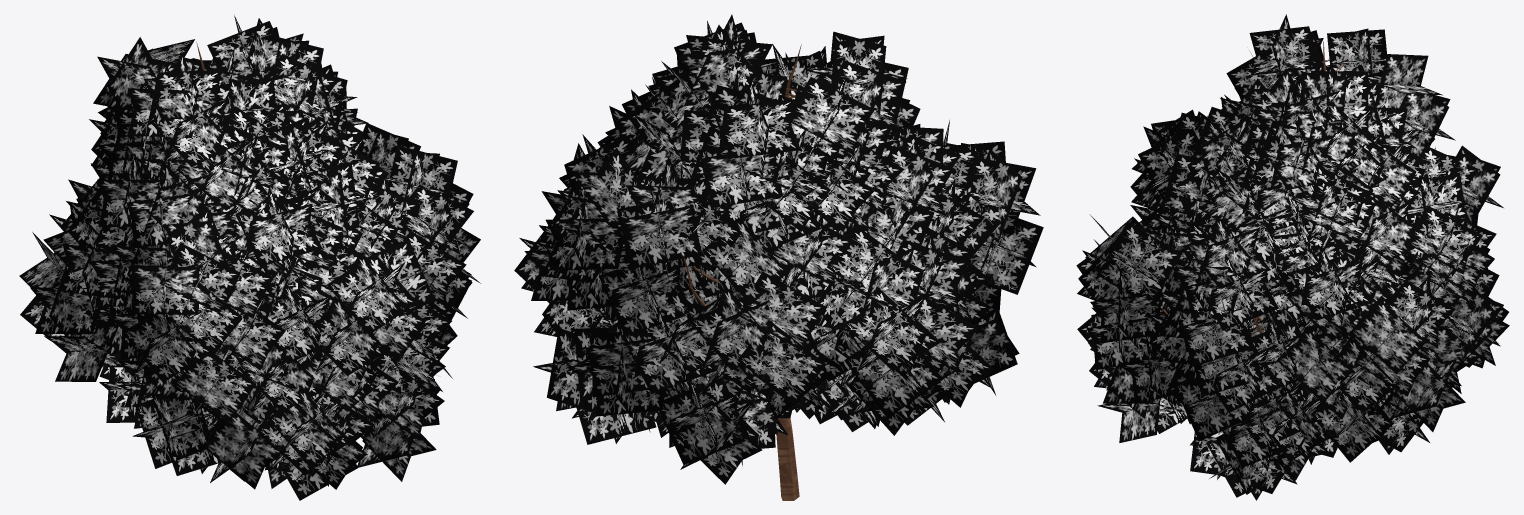
Rendered from M_Tree5_CO.fbx.
3 renders of one model, left to right at view 1: azimuth 30°, elevation 25°; view 2: azimuth 150°, elevation 25°; view 3: azimuth 270°, elevation 25°, orthographic. The views are drawn at different scales.
Visible parts, largest first — view 1: Lit_ass_tree; view 2: Lit_ass_tree; view 3: Lit_ass_tree.
Boxes of the visible parts, x1,y1,x2,y2 form: Lit_ass_tree: [19, 15, 480, 500]; Lit_ass_tree: [514, 14, 1043, 500]; Lit_ass_tree: [1076, 14, 1509, 500].
Bounding box in the file's own units: 25.75 × 26.64 × 26.61.
